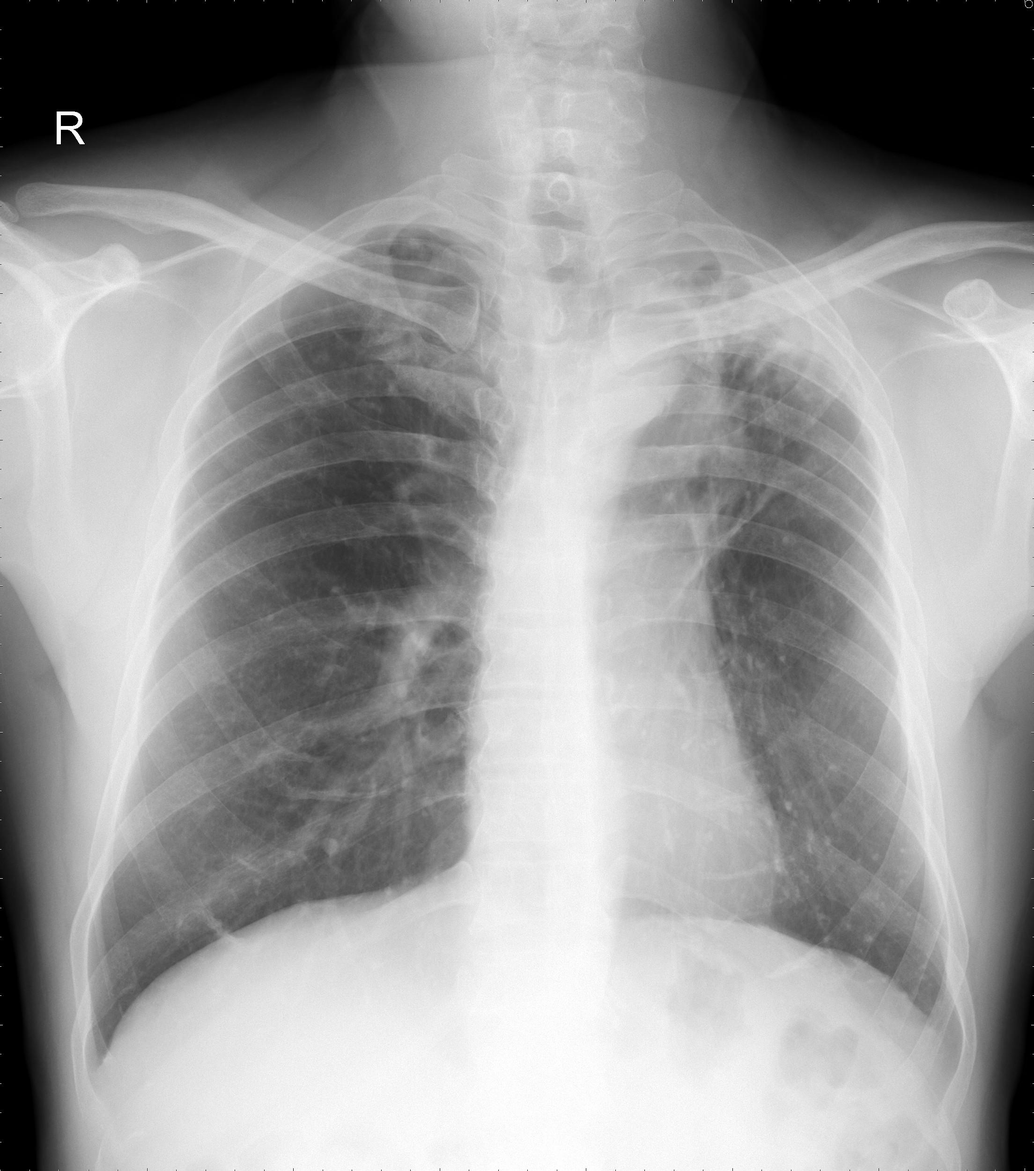Pleural thickening: (618, 249, 778, 278), (407, 223, 480, 252)
Pulmonary fibrosis: (632, 271, 857, 608)
